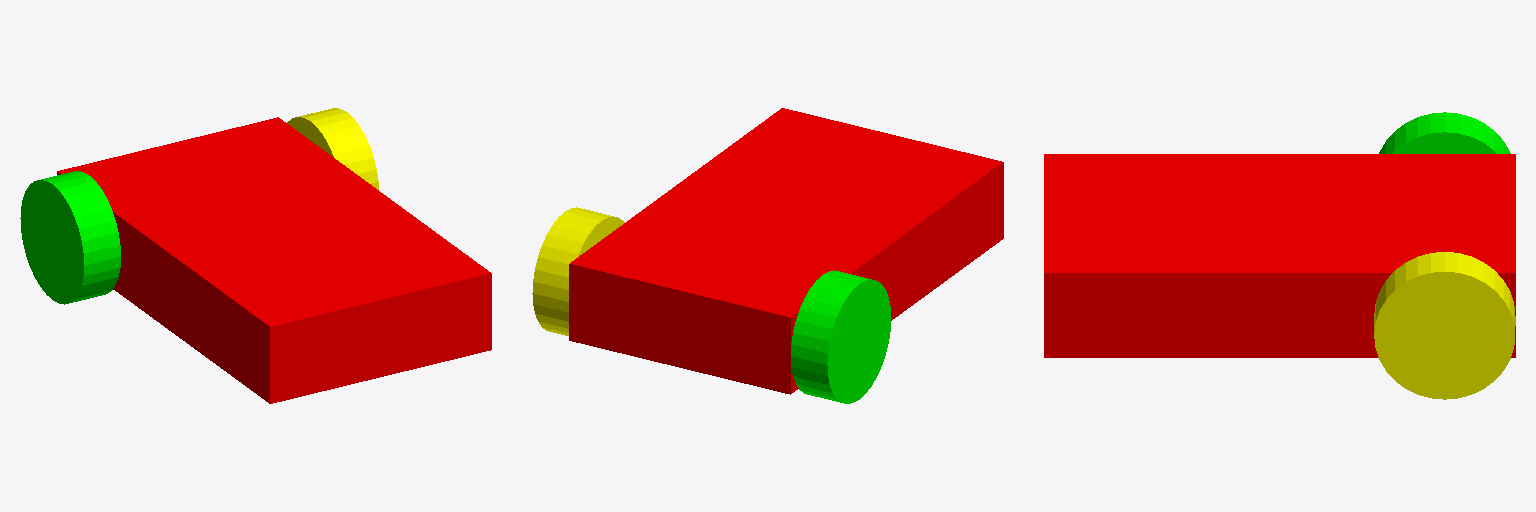
URDF robot description (rover):
<robot name="rover">
    <link name="base_footprint" />
    <link name="base_link">
        <visual name="">
            <origin xyz="0.0 0.0 0.0" rpy="0.0 0.0 0.0"/>
            <geometry>
                <box size="0.6 1.0 0.2"/>
            </geometry>
            <material name="red">
                <color rgba="1.0 0.0 0.0 1.0"/>
                <texture filename=""/>
            </material>
        </visual>
   </link>

    <joint name="base_joint" type="fixed">
        <origin xyz="0.0 0.0 0.2" rpy="0.0 0.0 0.0"/>
        <parent link="base_footprint"/>
        <child link="base_link"/>
        <axis xyz="0.0 0.0 0.0"/>
    </joint>

    <!-- Rear right wheel. -->
    <link name="wheel_rear_right_link">
        <visual name="">
    <!--            <origin xyz="0.35 0.35 0.0" rpy="${pi/2} 0.0 ${pi/2}"/> -->
            <origin xyz="0.0 0.0 0.0" rpy="0.0 0.0 0.0"/>
                <geometry>
                    <cylinder radius="0.15" length="0.1"/>
                </geometry>
                <material name="yellow">
                    <color rgba="1.0 1.0 0.0 1.0"/>
                    <texture filename=""/>
                </material>
        </visual>
        <collision>
            <origin xyz="0.0 0.0 0.0" rpy="0.0 0.0 0.0"/>
            <geometry>
                <cylinder radius="0.15" length="0.1"/>
            </geometry>
        </collision>
    </link>

    <joint name="wheel_rear_right_joint" type="continuous">
        <origin xyz="0.35 0.35 0.0" rpy="1.57 0.0 1.57"/>
        <parent link="base_link"/>
        <child link="wheel_rear_right_link"/>
        <axis xyz="1.0 0.0 0.0"/>
    </joint>


    <!-- Rear left wheel. -->
    <link name="wheel_rear_left_link">
        <visual name="">
    <!--            <origin xyz="0.35 0.35 0.0" rpy="${pi/2} 0.0 ${pi/2}"/> -->
            <origin xyz="0.0 0.0 0.0" rpy="0.0 0.0 0.0"/>
                <geometry>
                    <cylinder radius="0.15" length="0.1"/>
                </geometry>
                <material name="green">
                    <color rgba="0.0 1.0 0.0 1.0"/>
                    <texture filename=""/>
                </material>
        </visual>
        <collision>
            <origin xyz="0.0 0.0 0.0" rpy="0.0 0.0 0.0"/>
            <geometry>
                <cylinder radius="0.15" length="0.1"/>
            </geometry>
        </collision>
    </link>

    <joint name="wheel_rear_left_joint" type="continuous">
        <origin xyz="-0.35 0.35 0.0" rpy="1.57 0.0 1.57"/>
        <parent link="base_link"/>
        <child link="wheel_rear_left_link"/>
        <axis xyz="1.0 0.0 0.0"/>
    </joint>

</robot>

--- Render facts (derived) ---
Views: 3 orthographic renders of the robot side by side, from view 1: azimuth 30°, elevation 25°; view 2: azimuth 150°, elevation 25°; view 3: azimuth 270°, elevation 25°.
Robot: rover — 4 links, 3 joints (2 continuous, 1 fixed); root link base_footprint; default pose: every joint at zero.
Visible links, largest first — view 1: base_link, wheel_rear_left_link, wheel_rear_right_link; view 2: base_link, wheel_rear_left_link, wheel_rear_right_link; view 3: base_link, wheel_rear_right_link, wheel_rear_left_link.
Link boxes in pixels (x1,y1,x2,y2): base_link: (57, 117, 491, 403); wheel_rear_left_link: (20, 171, 120, 304); wheel_rear_right_link: (287, 108, 378, 189); base_link: (569, 108, 1003, 394); wheel_rear_left_link: (791, 270, 890, 403); wheel_rear_right_link: (532, 207, 624, 335); base_link: (1044, 154, 1515, 357); wheel_rear_right_link: (1374, 252, 1515, 399); wheel_rear_left_link: (1379, 112, 1510, 153).
Bounding box of the posed robot: 0.8003 × 1 × 0.3001 m (x, y, z).
Geometry: primitives only (box / cylinder / sphere), no mesh files.